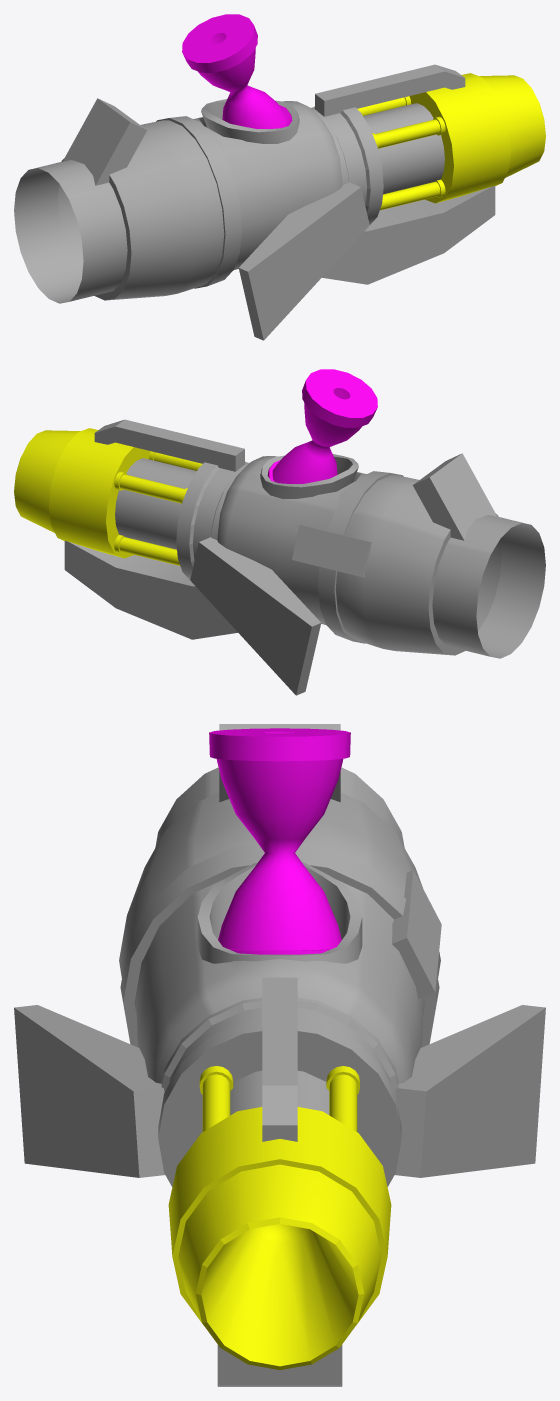
Rendered from Player Blaster V2_1.fbx.
3 views of the same model, one above another, from view 1: azimuth 30°, elevation 25°; view 2: azimuth 150°, elevation 25°; view 3: azimuth 270°, elevation 25° (orthographic). The views are drawn at different scales.
Visible parts, largest first — view 1: pCylinder2, pCube2, pCube1, Barrel1, Hourglass_Glass3, pCylinder5, pCube4, pCylinder4, pCube3, Barrel, pCylinder7, Poles (+1 smaller); view 2: pCylinder2, pCube2, pCube1, Barrel1, Hourglass_Glass3, pCylinder5, pCube4, pCylinder4, pCube3, Barrel, pCube5, Poles (+2 smaller); view 3: pCube2, pCylinder2, Barrel, Hourglass_Glass3, pCylinder4, Barrel1, pCylinder7, pCube3, pCylinder6, pCube5, Poles, pCube1 (+2 smaller).
Boxes of the visible parts, box(x1,y1,x2,y2) form: pCylinder2: box(14, 101, 342, 303); pCube2: box(238, 182, 369, 340); pCube1: box(322, 186, 495, 284); Barrel1: box(409, 73, 510, 203); Hourglass_Glass3: box(182, 14, 292, 128); pCylinder5: box(363, 103, 444, 194); pCube4: box(63, 98, 147, 185); pCylinder4: box(309, 106, 383, 224); pCube3: box(315, 64, 465, 116); Barrel: box(479, 75, 545, 177); pCylinder7: box(156, 116, 241, 288); Poles: box(357, 96, 445, 210); pCylinder2: box(217, 456, 545, 658); pCube2: box(190, 537, 321, 695); pCube1: box(64, 541, 237, 639); Barrel1: box(49, 428, 150, 558); Hourglass_Glass3: box(267, 369, 377, 483); pCylinder5: box(115, 458, 196, 549); pCube4: box(412, 453, 496, 540); pCylinder4: box(176, 461, 250, 579); pCube3: box(94, 419, 244, 471); Barrel: box(14, 430, 80, 532); pCube5: box(292, 524, 372, 577); Poles: box(114, 451, 202, 565); pCube2: box(14, 1005, 545, 1177); pCylinder2: box(119, 767, 440, 1083); Barrel: box(178, 1164, 381, 1370); Hourglass_Glass3: box(209, 728, 350, 954); pCylinder4: box(158, 997, 401, 1186); Barrel1: box(168, 1107, 391, 1325); pCylinder7: box(120, 844, 439, 1047); pCube3: box(262, 977, 297, 1141); pCylinder6: box(197, 863, 362, 963); pCube5: box(392, 870, 441, 999); Poles: box(199, 1066, 359, 1131); pCube1: box(217, 1344, 342, 1386).
Size of the model in its own units: 468 by 262 by 246.
